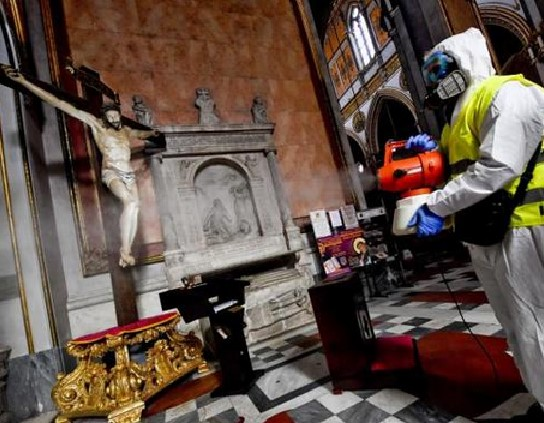face_with_mask: (422, 25, 503, 123)
